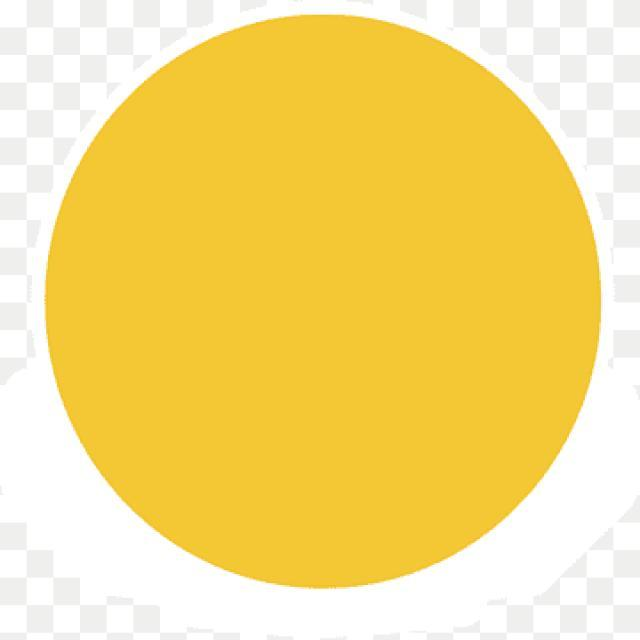Circle: (41, 13, 606, 592)
